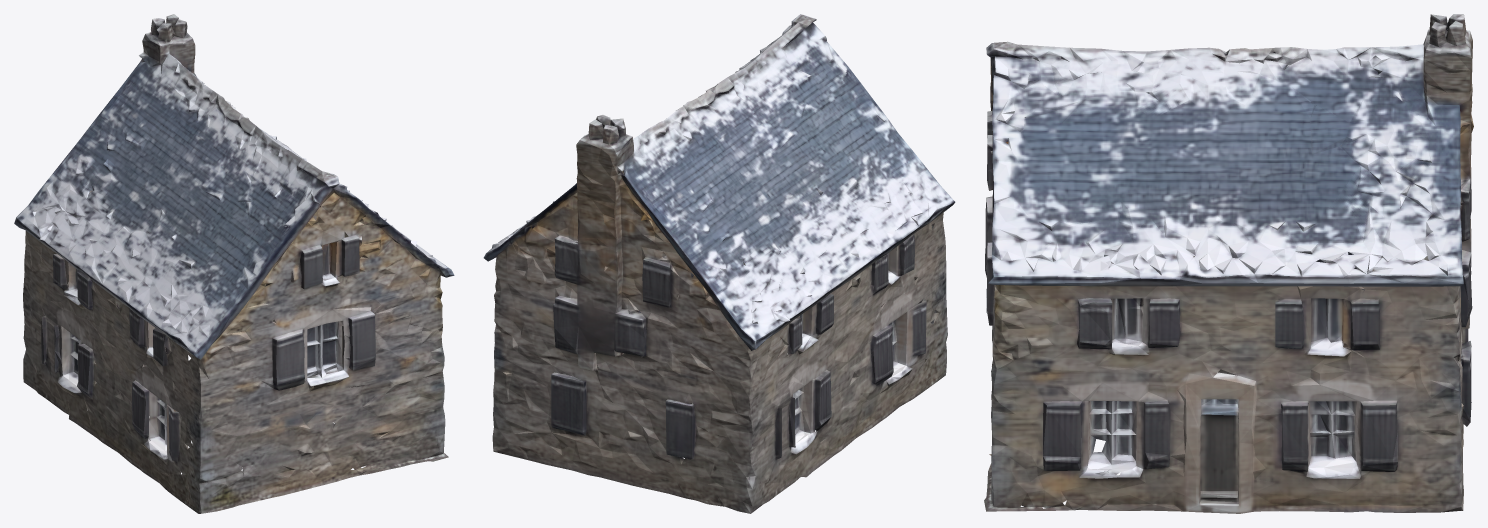
Rendered from house_belgian.obj.
The picture shows the model from 3 angles, left to right: view 1: azimuth 30°, elevation 25°; view 2: azimuth 150°, elevation 25°; view 3: azimuth 270°, elevation 25°; orthographic projection. The views are drawn at different scales.
Parts seen in each view (by area): view 1: house_belgian; view 2: house_belgian; view 3: house_belgian.
Part boxes in pixels (bbox=[...]): house_belgian: bbox=[14, 14, 454, 513]; house_belgian: bbox=[483, 14, 955, 513]; house_belgian: bbox=[984, 14, 1473, 513].
Size of the model in its own units: 7.96 by 9.69 by 10.
1 material, 1 textured.
